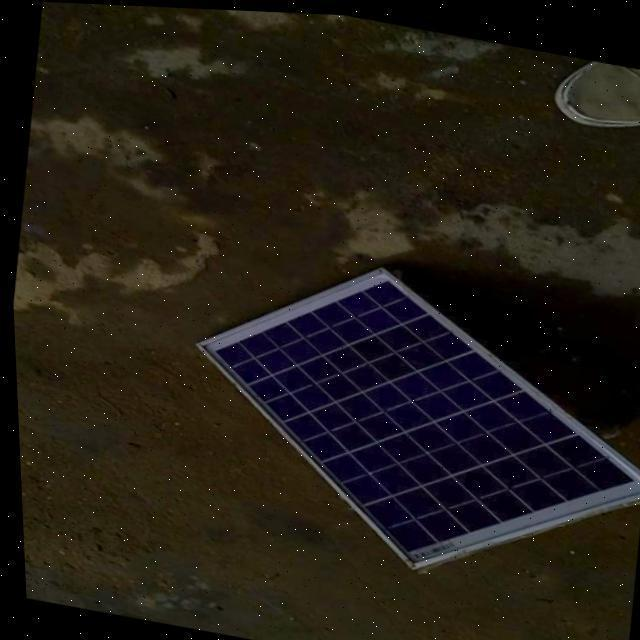Normal Solar Panel: (163, 233, 640, 606)
